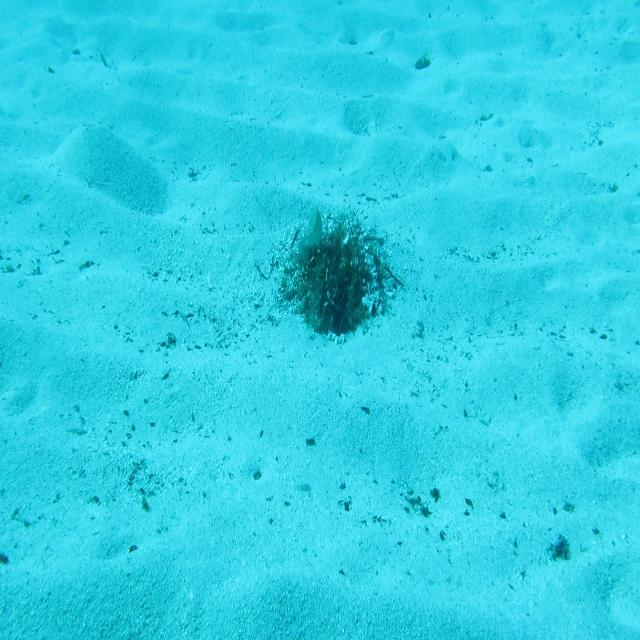MAN: (295, 206, 331, 259)
core_nest: (326, 249, 361, 275)
nest: (288, 218, 399, 342)
